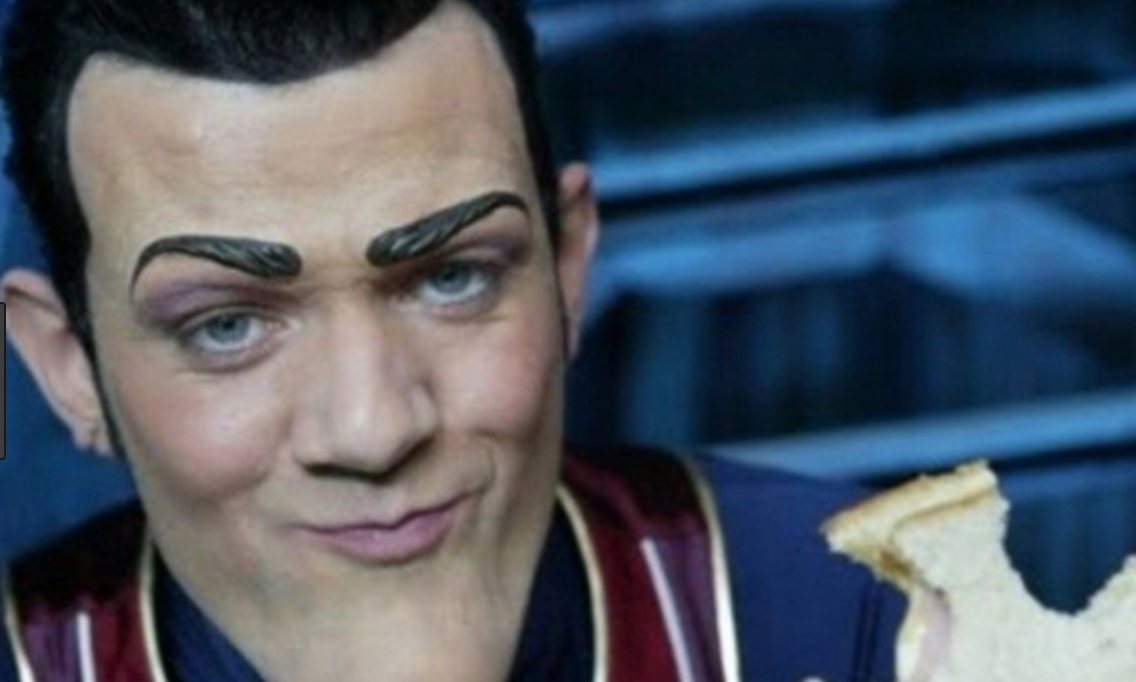bad: (91, 194, 553, 657)
